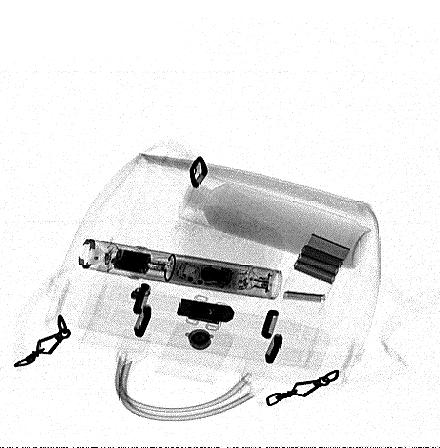Baton: (77, 237, 283, 301)
